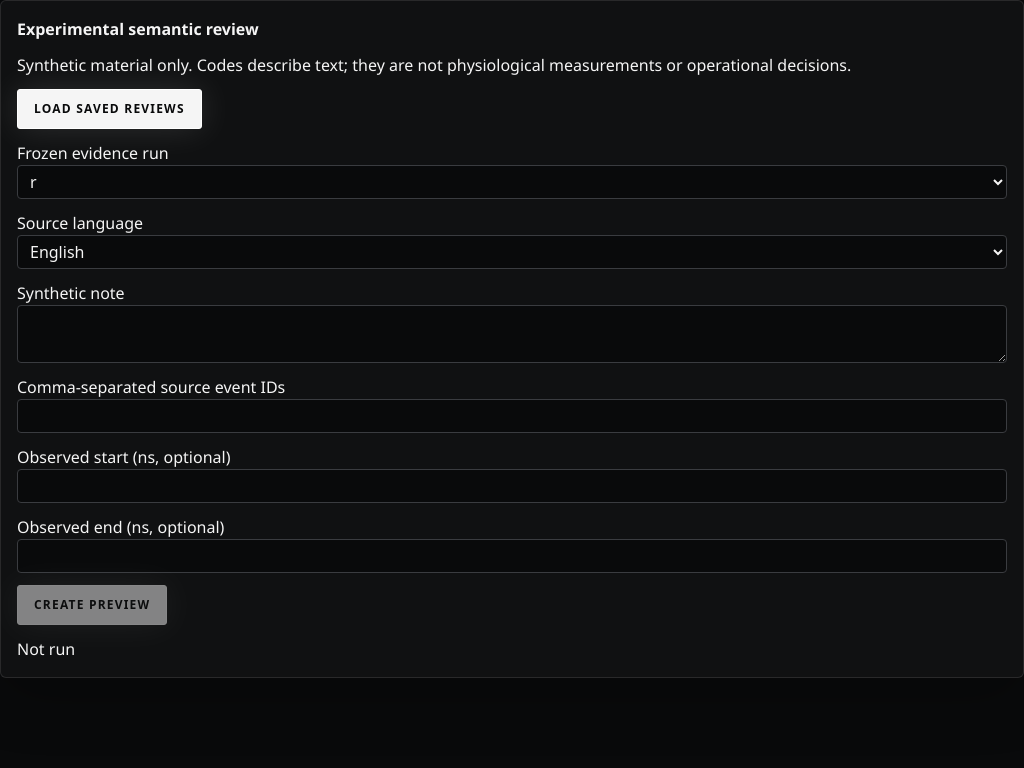
Test: experimental semantic review › accepts asynchronous previews under React StrictMode
The image size is (1024, 768).
Step 1. Type "A synthetic report." into the text box labelled "Synthetic note" → (512, 334), box [17,305,1007,363]
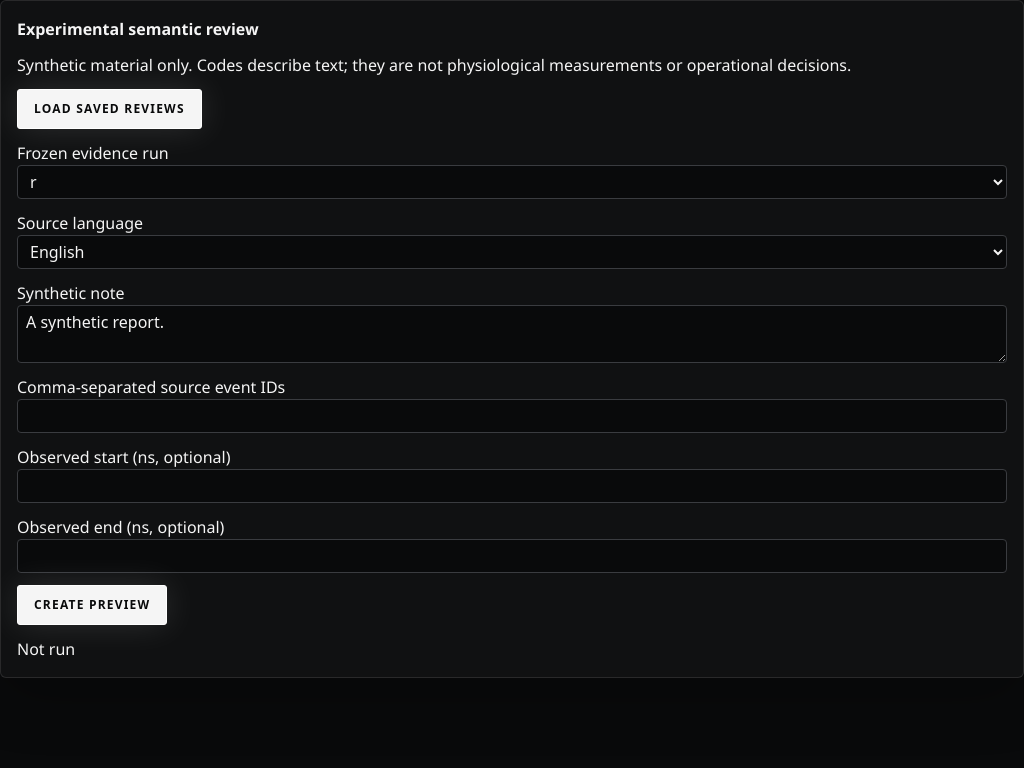
Step 2. Click the button "Create preview" → (92, 605), box [17,585,167,625]
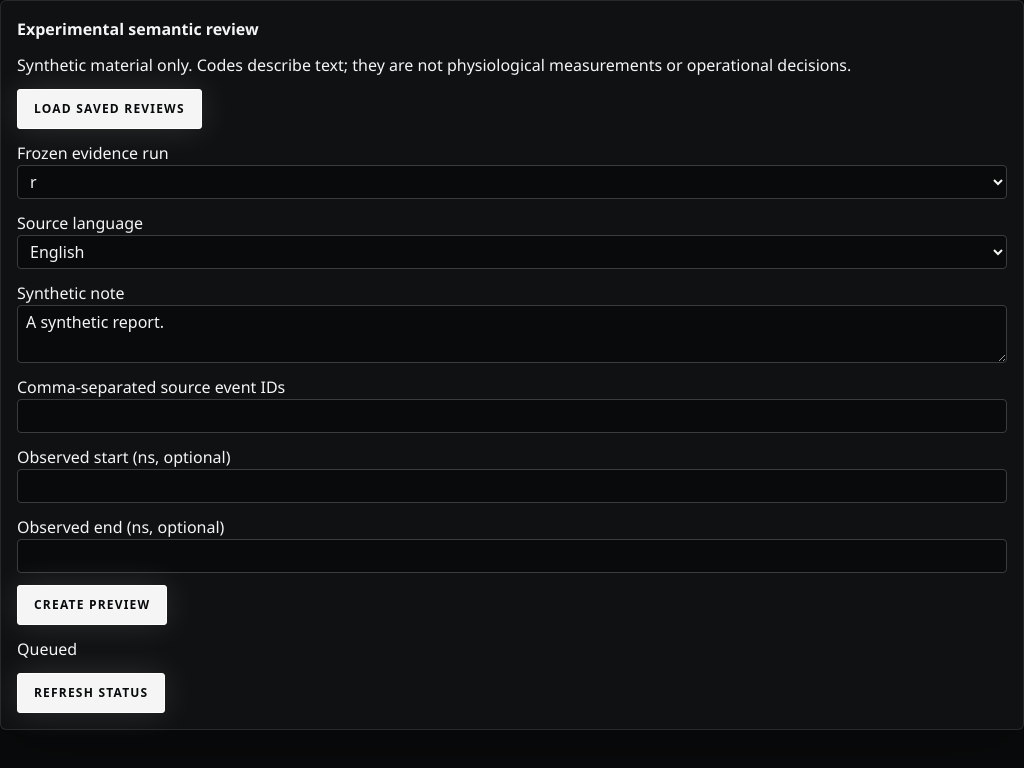
expect the text "Queued" is shown: met, box [17,638,77,660]
